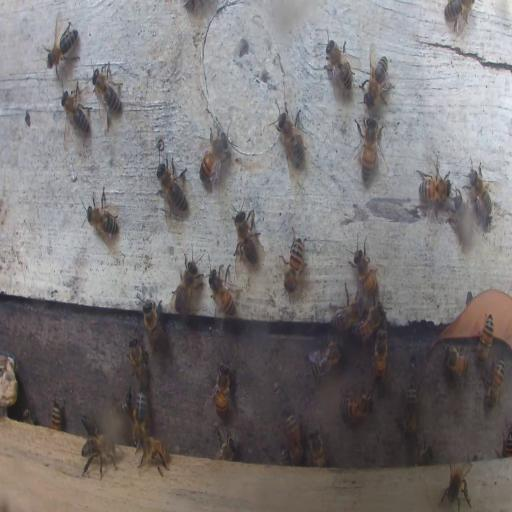nonpollenbee: (272, 102, 306, 170), (170, 250, 204, 318), (349, 232, 379, 302), (90, 60, 122, 124), (43, 20, 79, 76), (323, 34, 355, 95), (85, 184, 118, 243), (231, 200, 259, 269), (440, 458, 475, 512), (466, 158, 493, 228), (156, 158, 188, 217), (198, 128, 228, 190), (362, 52, 392, 112), (60, 82, 90, 141), (356, 117, 383, 182), (208, 264, 238, 320), (82, 432, 118, 478), (283, 230, 305, 294), (307, 338, 342, 378), (141, 302, 167, 355), (137, 434, 170, 475), (331, 288, 363, 330), (417, 168, 451, 204), (483, 357, 505, 410), (399, 383, 420, 438), (450, 196, 474, 244), (127, 336, 149, 388), (341, 389, 374, 423), (353, 304, 382, 341), (283, 412, 303, 464), (443, 0, 473, 33), (212, 362, 230, 415), (476, 313, 494, 363), (442, 344, 469, 375), (307, 425, 326, 467), (373, 328, 387, 382), (214, 426, 237, 458), (113, 383, 134, 418), (271, 383, 291, 415), (416, 435, 432, 463), (500, 421, 512, 457), (82, 417, 99, 441), (50, 400, 63, 430), (19, 407, 34, 422)
pollenbee: (132, 390, 149, 445)
